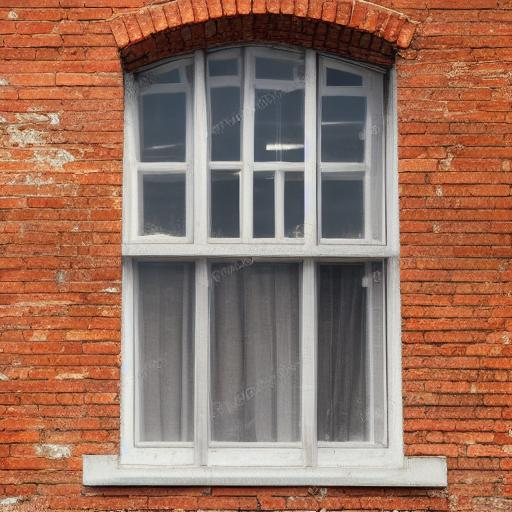Window: (78, 0, 451, 491)
